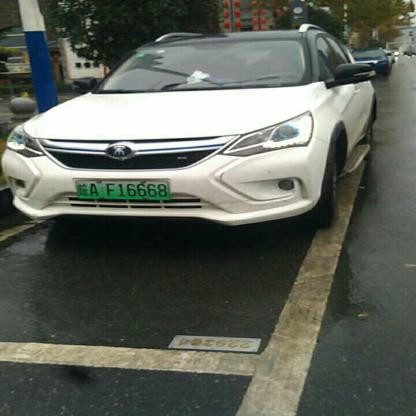lp: (75, 179, 170, 200)
